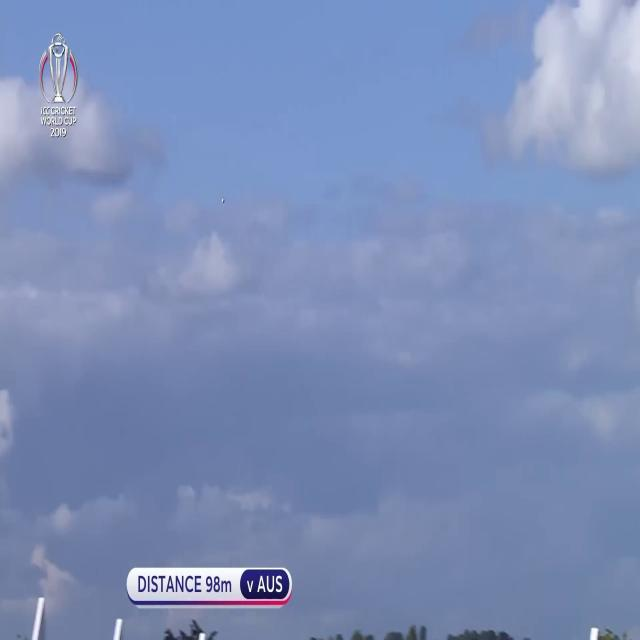ball: (220, 194, 227, 204)
